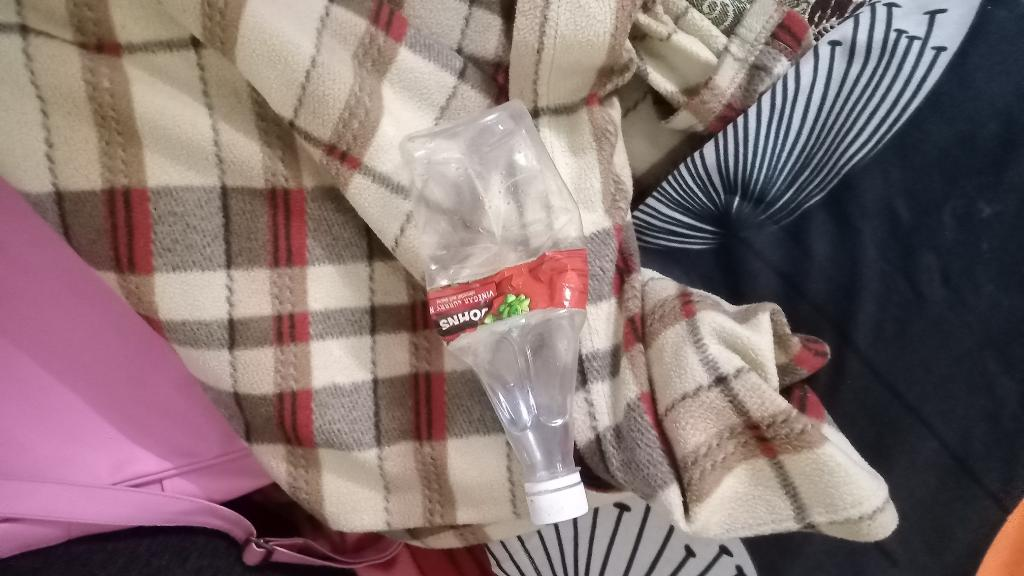garbage: (388, 91, 603, 538)
